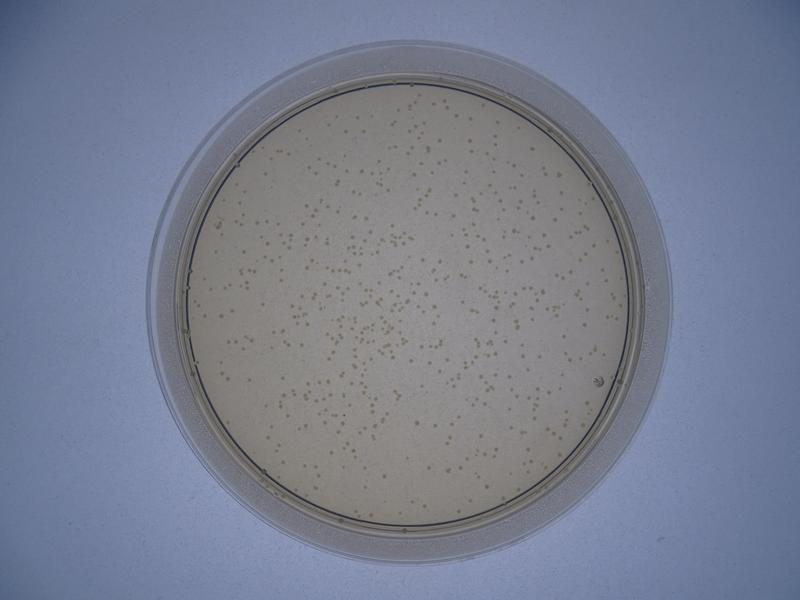colony: (557, 327, 571, 345), (465, 252, 480, 267), (277, 372, 292, 386), (241, 373, 255, 388), (374, 468, 390, 481), (522, 141, 538, 154), (255, 297, 269, 311), (420, 462, 434, 476), (462, 135, 478, 147), (355, 164, 368, 178), (421, 354, 434, 368), (525, 252, 540, 264), (597, 274, 612, 286), (580, 318, 592, 333), (279, 411, 294, 423), (295, 217, 308, 230), (339, 123, 351, 137), (409, 167, 421, 181), (425, 167, 437, 181), (403, 353, 415, 367), (538, 229, 551, 241), (361, 212, 374, 224), (428, 418, 439, 432), (527, 213, 541, 224), (474, 429, 485, 443), (300, 199, 312, 211), (410, 417, 422, 429), (301, 160, 313, 172), (225, 305, 238, 316), (356, 127, 370, 137), (446, 210, 458, 221), (449, 190, 460, 202), (457, 295, 468, 307), (441, 354, 453, 365), (301, 262, 312, 274), (297, 339, 308, 350), (421, 207, 432, 218), (350, 111, 362, 121), (554, 188, 565, 197), (462, 167, 471, 177)
